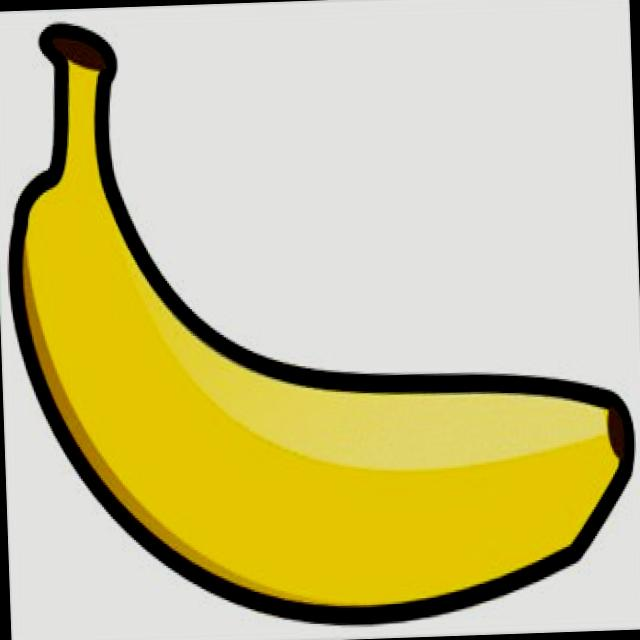banana: (10, 135, 640, 640)
